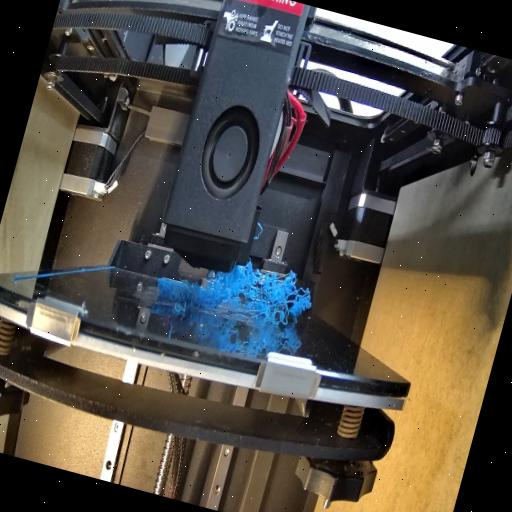spaghetti: (209, 260, 313, 330), (159, 274, 204, 318)
